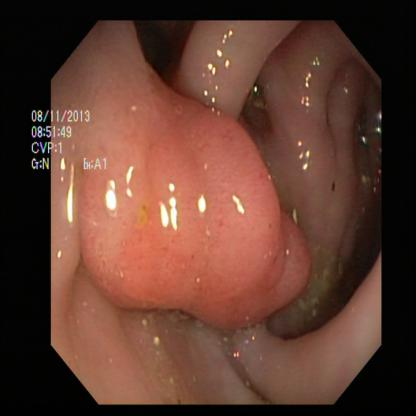Labels: (28, 104, 112, 173)
Polyps: (125, 123, 305, 331)
